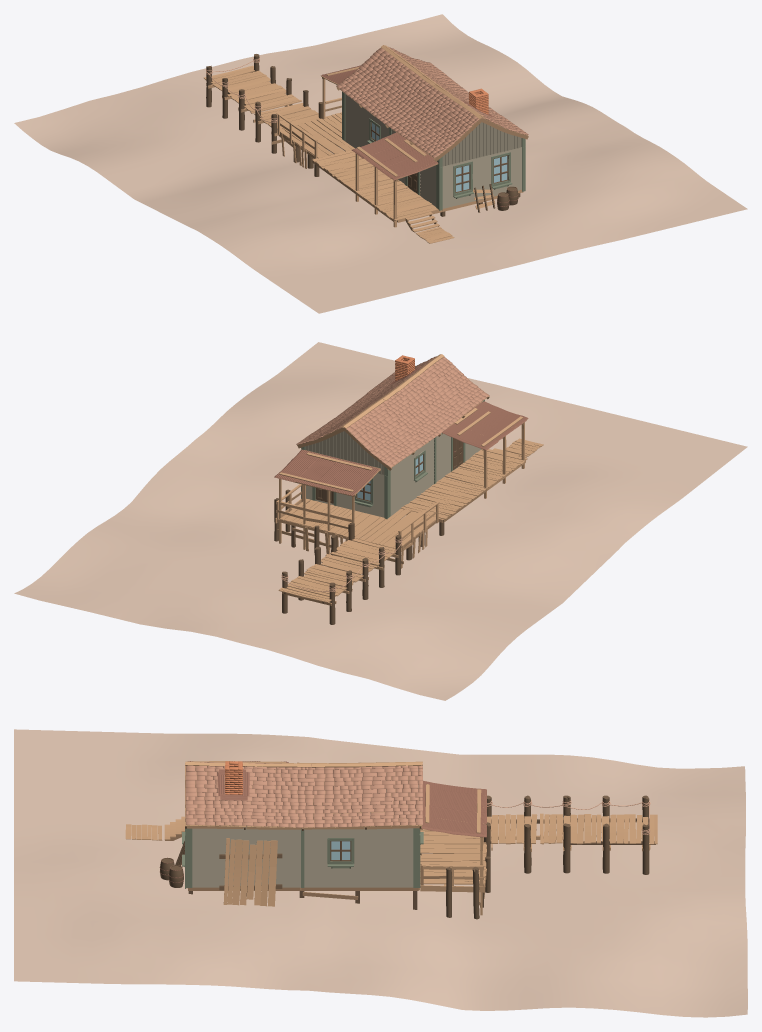
File: lake_shack_rdr2.fbx
3 renders of one model, top to bottom at view 1: azimuth 30°, elevation 25°; view 2: azimuth 150°, elevation 25°; view 3: azimuth 270°, elevation 25°, orthographic. The views are drawn at different scales.
Visible parts, largest first — view 1: Plane.004, Plane.420, Cube.160, Cube.235, Plane.000, Cube.161, Cube.163, Cylinder.017, Cylinder.021, Cube.002; view 2: Plane.004, Plane.420, Cube.161, Plane.000, Cube.239, Cube.156, Cube.163, Cylinder.022, Cylinder.026, Cylinder.021, Cube.009; view 3: Plane.004, Plane.000, Cube.154, Cube.152, Cylinder.026, Cube.343, Cylinder.022, Cylinder.024, Cube.411, Cube.390, Cube.395, Cube.
Boxes of the visible parts, x1,y1,x2,y2 form: Plane.004: (14,14,747,313); Plane.420: (336,47,479,157); Cube.160: (442,147,521,208); Cube.235: (442,122,521,166); Plane.000: (388,47,528,134); Cube.161: (343,94,389,148); Cube.163: (391,129,436,206); Cylinder.017: (379,151,434,178); Cylinder.021: (351,132,406,158); Cube.002: (355,154,396,227); Plane.004: (14,342,747,700); Plane.420: (346,357,489,467); Cube.161: (388,438,434,518); Plane.000: (296,356,436,444); Cube.239: (305,431,384,474); Cube.156: (306,473,384,517); Cube.163: (436,433,480,481); Cylinder.022: (322,461,369,493); Cylinder.026: (274,449,320,482); Cylinder.021: (442,423,498,450); Cube.009: (279,478,354,554); Plane.004: (14,729,747,1017); Plane.000: (185,765,422,827); Cube.154: (304,827,413,887); Cube.152: (192,826,300,887); Cylinder.026: (422,815,486,837); Cube.343: (185,765,422,827); Cylinder.022: (422,786,486,807); Cylinder.024: (422,804,486,823); Cube.411: (225,761,242,794); Cube.390: (268,840,277,906); Cube.395: (232,839,242,905); Cube: (311,762,422,767).
Size of the model in its own units: 1561 by 436 by 1909.
